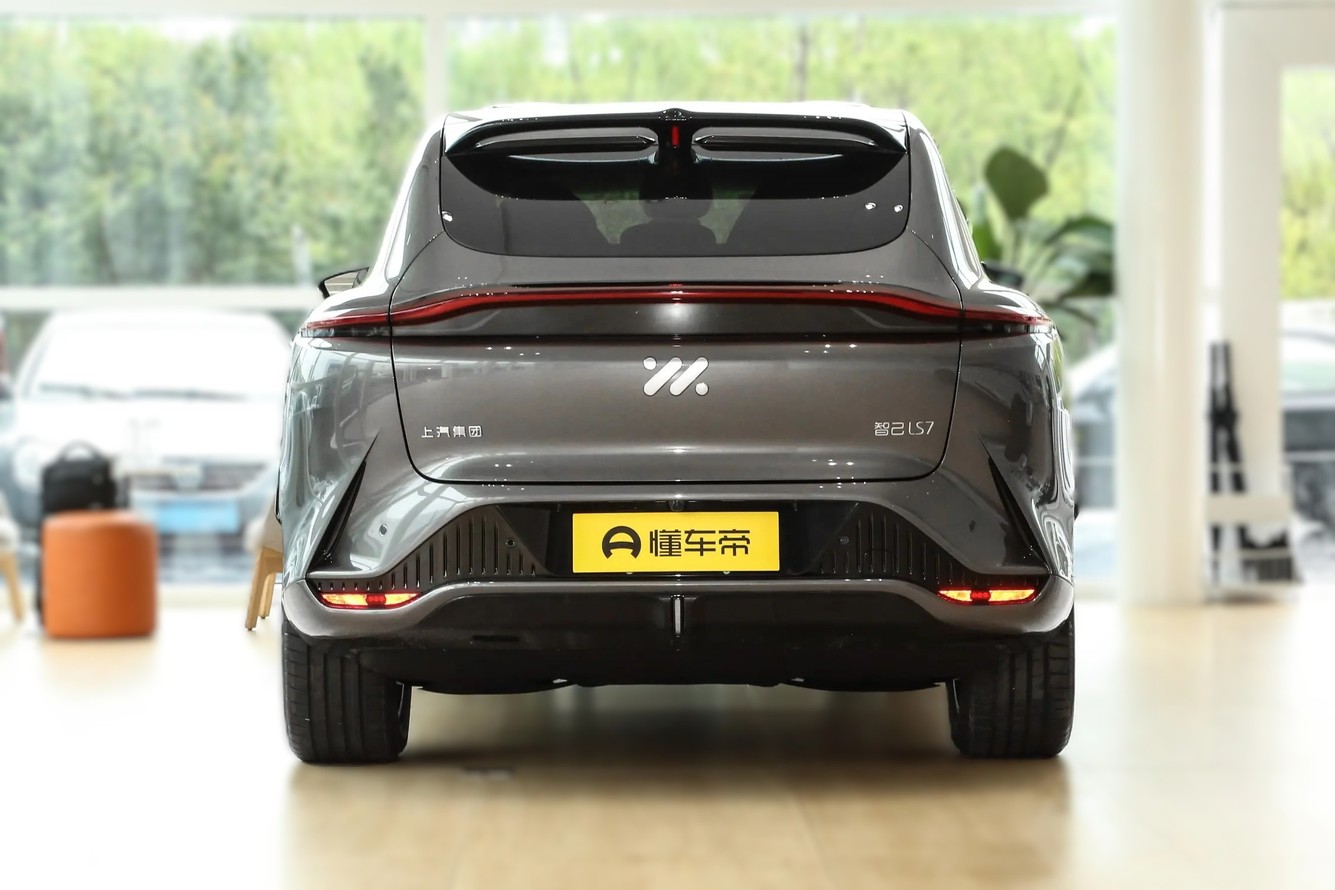IM: (643, 357, 708, 396)
